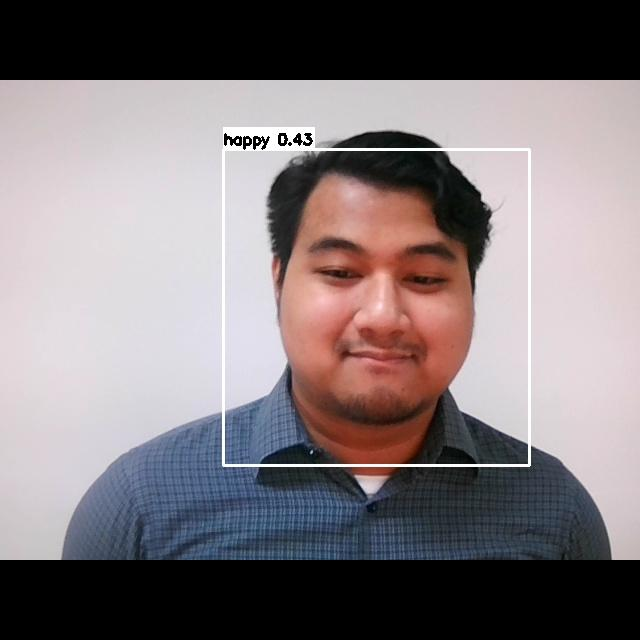Happy: (283, 219, 474, 401)
